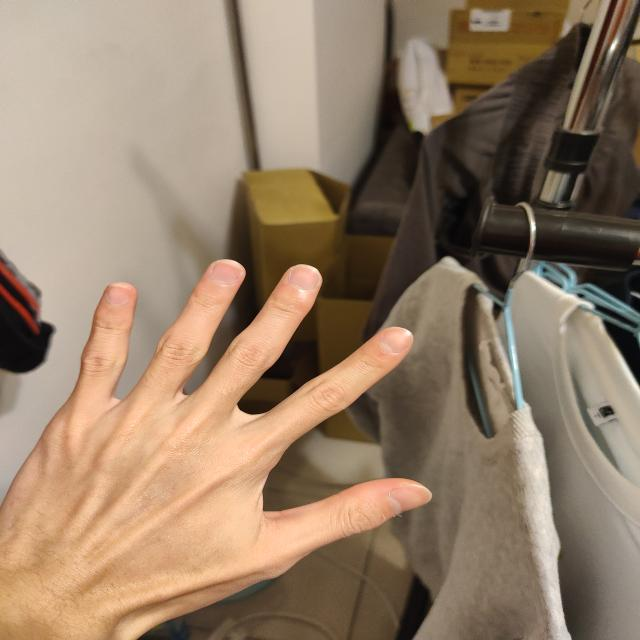no_glove: (0, 243, 440, 639)
